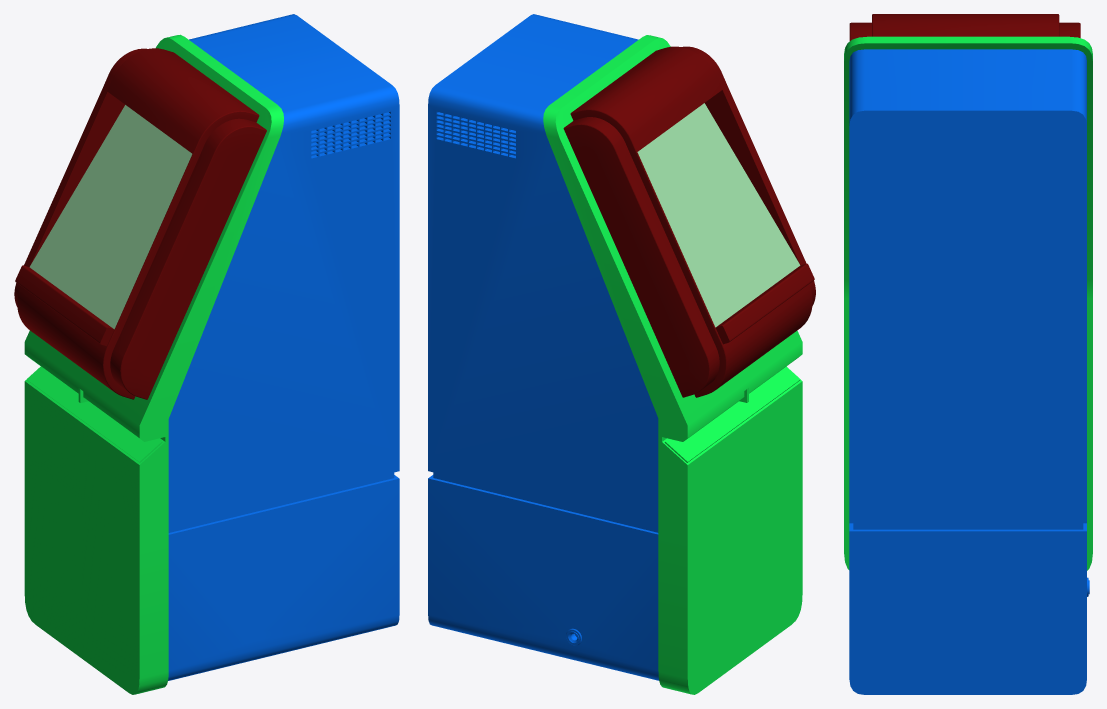
The model's file is PunchMachine.FBX.
The picture shows the model from 3 angles, left to right: view 1: azimuth 30°, elevation 25°; view 2: azimuth 150°, elevation 25°; view 3: azimuth 270°, elevation 25°; orthographic projection. The views are drawn at different scales.
Parts seen in each view (by area): view 1: Atm, Box016, Box014, Group001; view 2: Atm, Box016, Box014, Group001; view 3: Atm, Box016, Box014.
Part boxes in pixels (left/top/right/bottom): Atm: left=168, top=14, right=399, bottom=680; Box016: left=24, top=34, right=283, bottom=694; Box014: left=14, top=48, right=266, bottom=399; Group001: left=29, top=105, right=192, bottom=329; Atm: left=428, top=14, right=659, bottom=680; Box016: left=543, top=35, right=802, bottom=694; Box014: left=563, top=46, right=815, bottom=397; Group001: left=637, top=103, right=800, bottom=327; Atm: left=849, top=49, right=1089, bottom=694; Box016: left=844, top=36, right=1092, bottom=570; Box014: left=849, top=14, right=1080, bottom=40.
Bounding box in the file's own units: 29.85 × 54.75 × 20.59.
